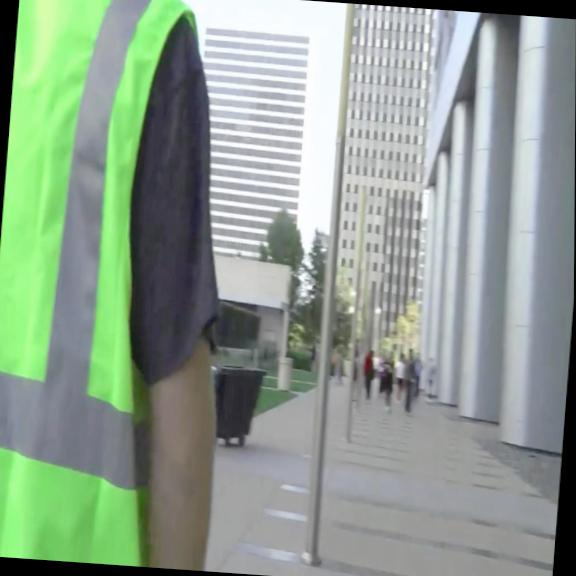safety_vest: (0, 0, 204, 568)
